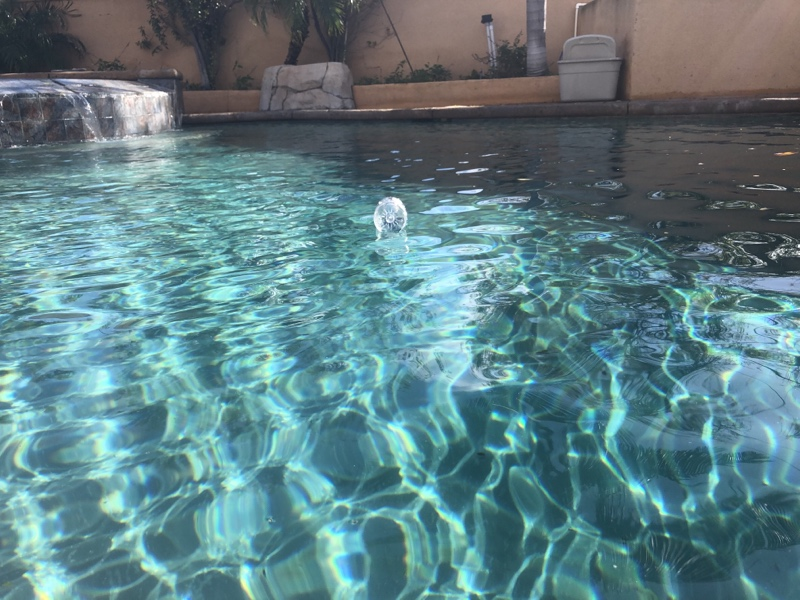Plastic Bottle: (371, 193, 411, 239)
